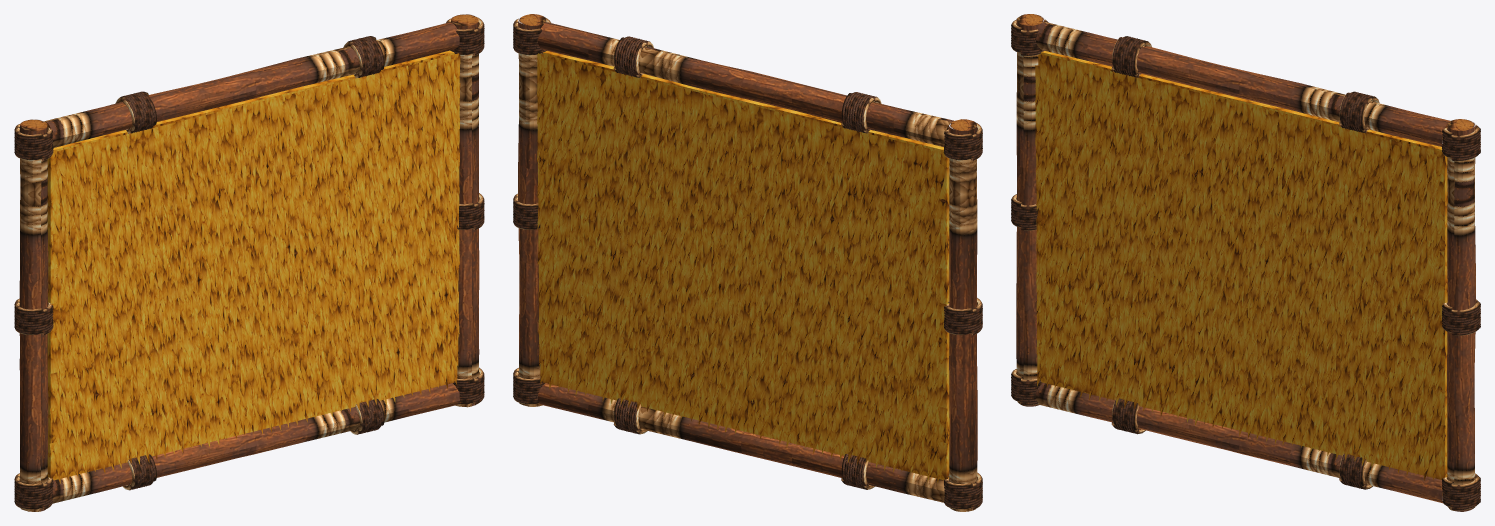
Rendered from Haus_Wand.glb.
3 views of the same model, side by side, from view 1: azimuth 30°, elevation 25°; view 2: azimuth 150°, elevation 25°; view 3: azimuth 330°, elevation 25° (orthographic).
Parts seen in each view (by area): view 1: wand_voll; view 2: wand_voll; view 3: wand_voll.
Part boxes in pixels (x1,y1,x2,y2): wand_voll: [14, 14, 484, 511]; wand_voll: [513, 14, 982, 511]; wand_voll: [1011, 14, 1480, 511].
Size of the model in its own units: 3.06 by 2.46 by 0.2883.
Materials: 4 (4 with a texture image).
